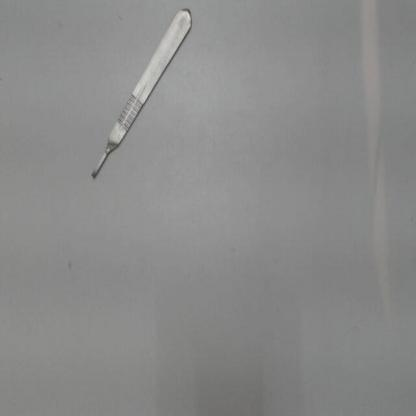No.3 BP Handle: (84, 2, 203, 189)
